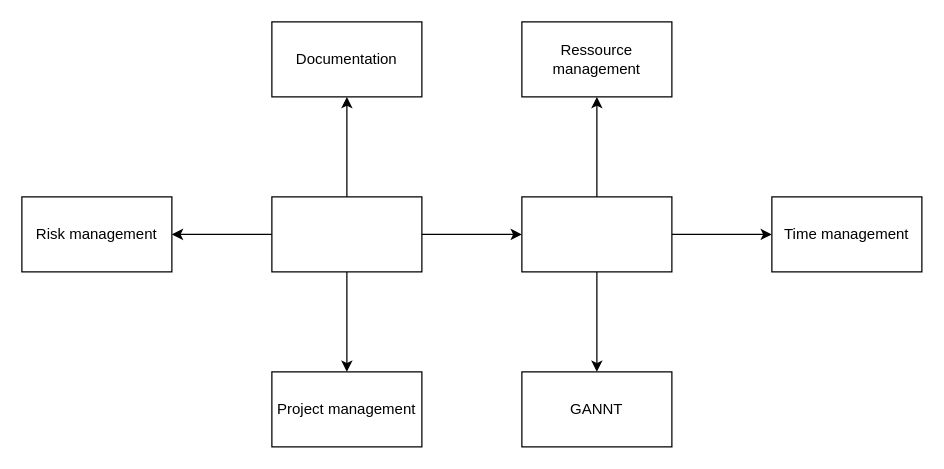
This 944x469 diagram has some shape labels left out. Each missing label, with the centre of its shape:
Calendar: the point at 596,234
Project Dashboard: the point at 346,234
